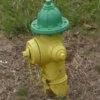Hydrant: (18, 4, 85, 97)
